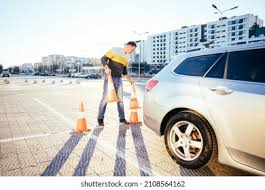car: (143, 39, 265, 176)
cone: (68, 100, 93, 133), (104, 72, 121, 106), (128, 82, 142, 111), (127, 107, 143, 126)
